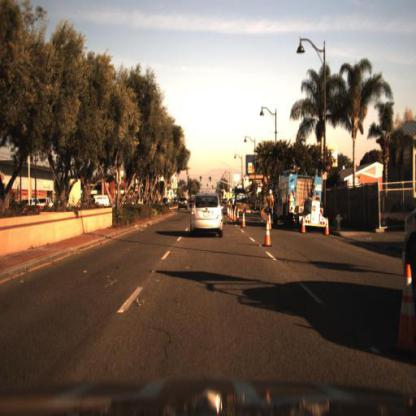car: (189, 190, 226, 240), (230, 189, 263, 229), (177, 195, 190, 216)
pedestrian: (266, 188, 278, 229)
truck: (279, 167, 332, 237), (232, 189, 255, 216)
